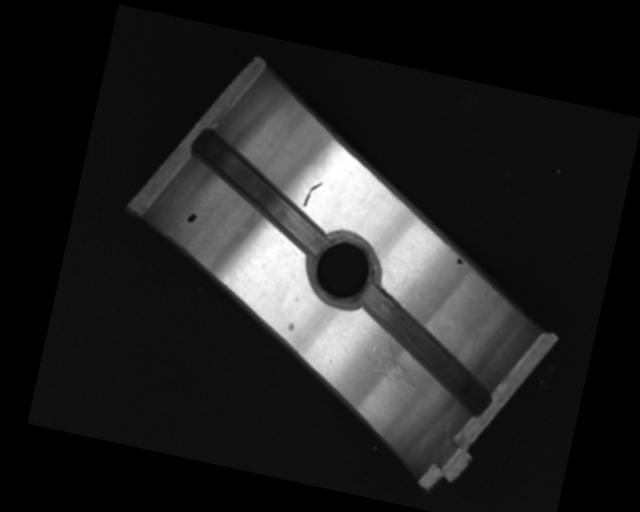blot: (185, 210, 198, 225), (454, 256, 465, 266)
bruise: (286, 319, 296, 332)
gap: (342, 281, 507, 417), (181, 130, 340, 258)
hole: (303, 227, 385, 311)
nick: (301, 179, 322, 210)
scratch: (364, 331, 442, 403)
